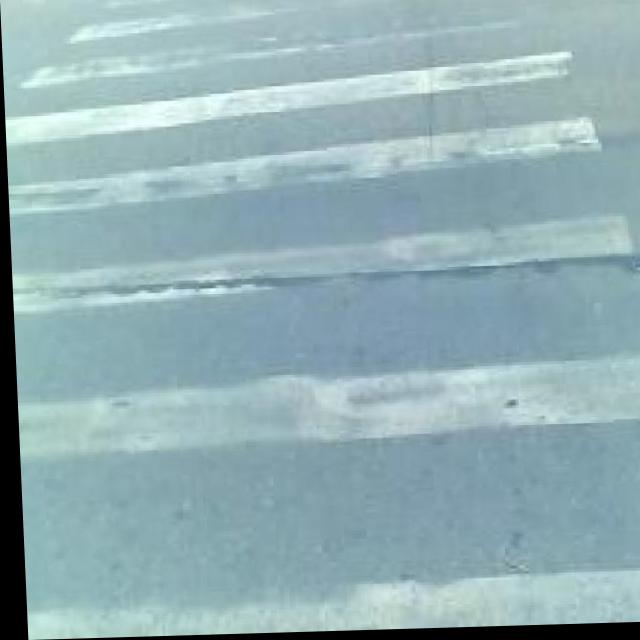zebra: (79, 1, 533, 637)
